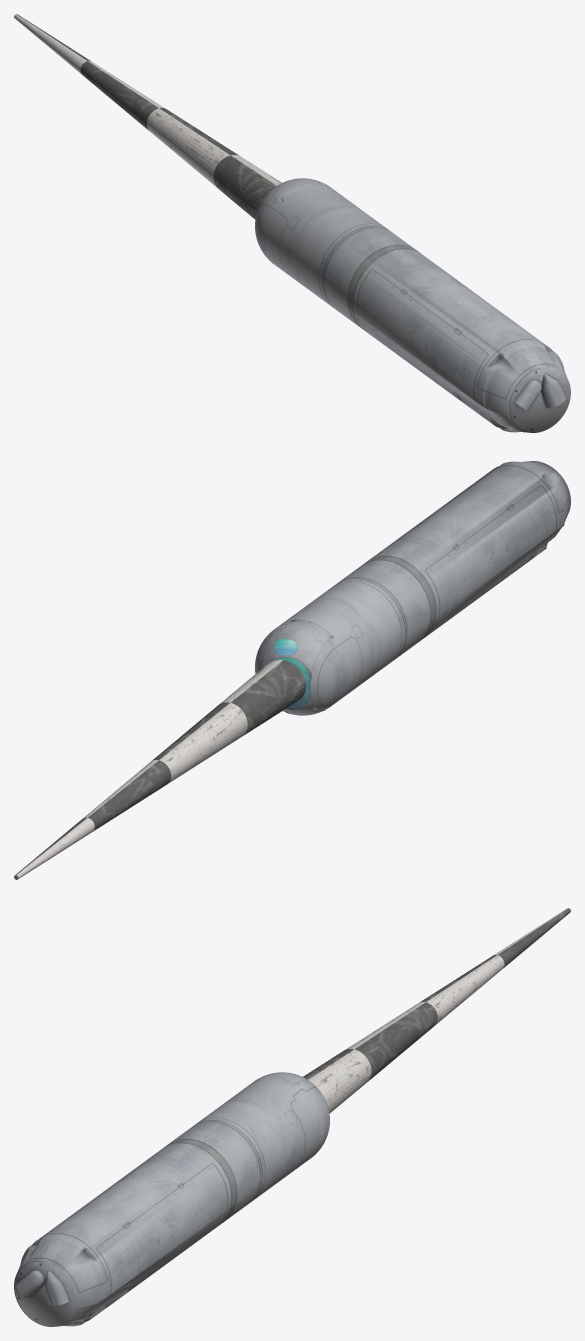
File: ATFLIR.glb
The picture shows the model from 3 angles, top to bottom: view 1: azimuth 30°, elevation 25°; view 2: azimuth 150°, elevation 25°; view 3: azimuth 330°, elevation 25°; orthographic projection.
Parts seen in each view (by area): view 1: BODY, Pointer, HEAD, BALL; view 2: BODY, Pointer, HEAD, BALL; view 3: BODY, Pointer, HEAD.
Boxes of the visible parts, x1=… form: BODY: x1=318, y1=223, x2=570, y2=432; Pointer: x1=14, y1=14, x2=281, y2=219; HEAD: x1=255, y1=179, x2=385, y2=304; BALL: x1=263, y1=178, x2=321, y2=202; BODY: x1=334, y1=461, x2=570, y2=662; Pointer: x1=14, y1=660, x2=306, y2=879; HEAD: x1=255, y1=581, x2=401, y2=710; BALL: x1=266, y1=620, x2=333, y2=715; BODY: x1=14, y1=1117, x2=266, y2=1326; Pointer: x1=303, y1=908, x2=570, y2=1113; HEAD: x1=199, y1=1079, x2=329, y2=1198.
Size of the model in its own units: 0.335 by 0.335 by 3.7.
Materials: 3 (3 with a texture image).
